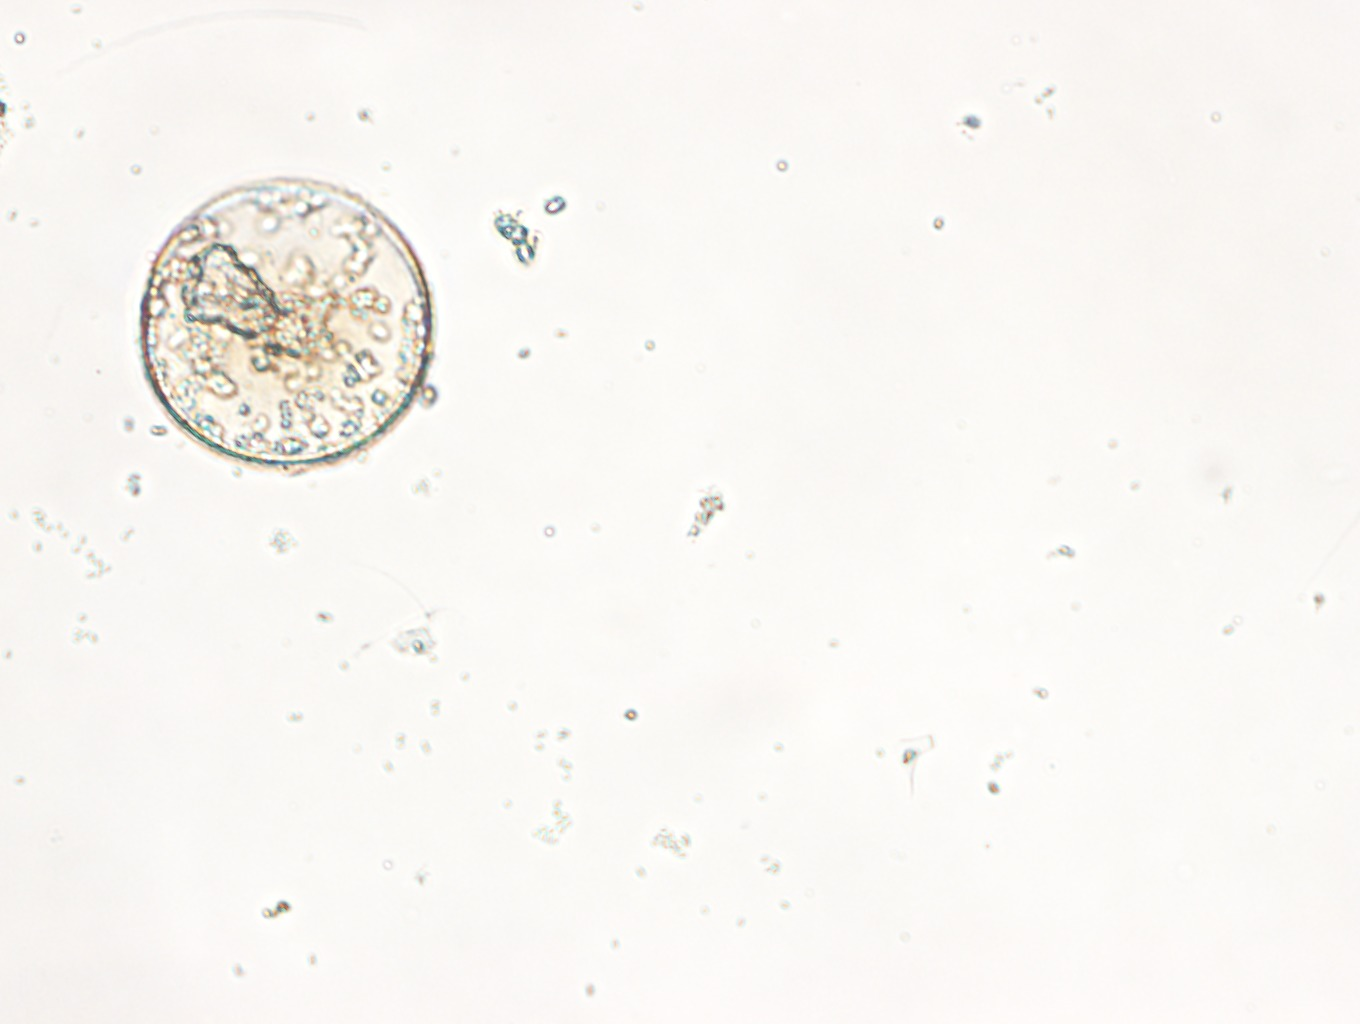coscinodiscus: (135, 172, 434, 469)
